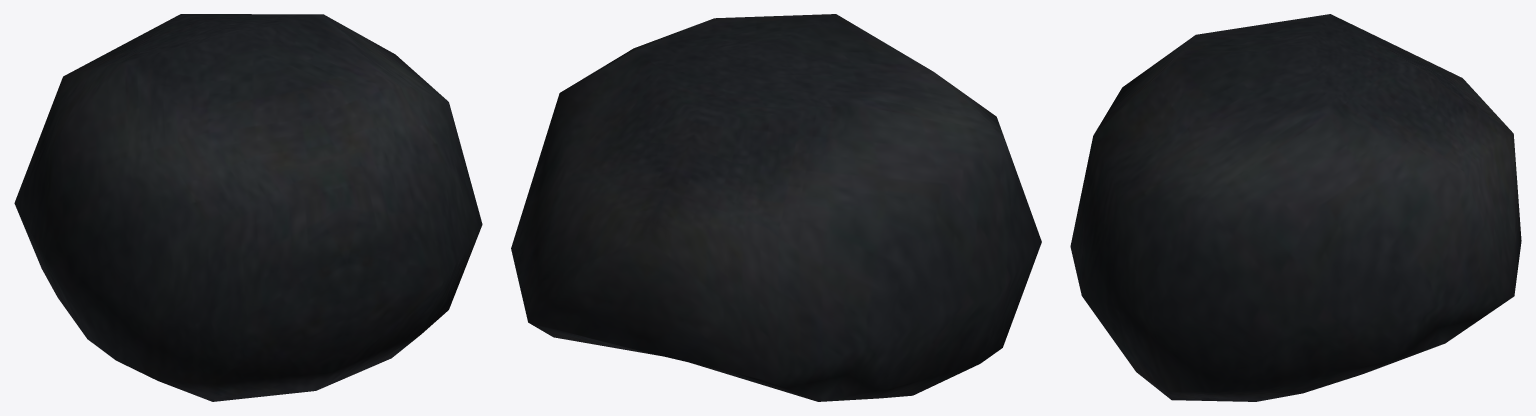
File: afro.glb
3 views of the same model, side by side, from view 1: azimuth 30°, elevation 25°; view 2: azimuth 150°, elevation 25°; view 3: azimuth 270°, elevation 25° (orthographic). The views are drawn at different scales.
Visible parts, largest first — view 1: afro; view 2: afro; view 3: afro.
Boxes of the visible parts, x1,y1,x2,y2 form: afro: [14, 14, 482, 401]; afro: [511, 14, 1041, 401]; afro: [1070, 14, 1521, 401].
Bounding box in the file's own units: 0.51 × 0.3662 × 0.4857.
Materials: 1 (1 with a texture image).
